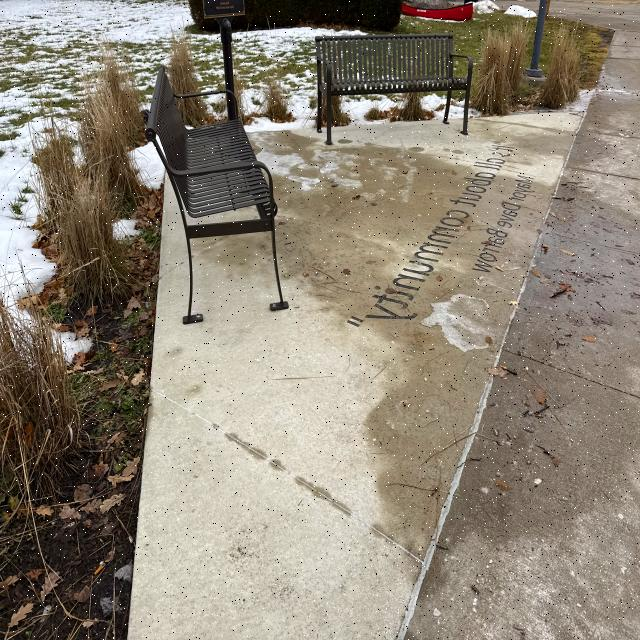Bench: (141, 49, 289, 328), (310, 23, 474, 145)
